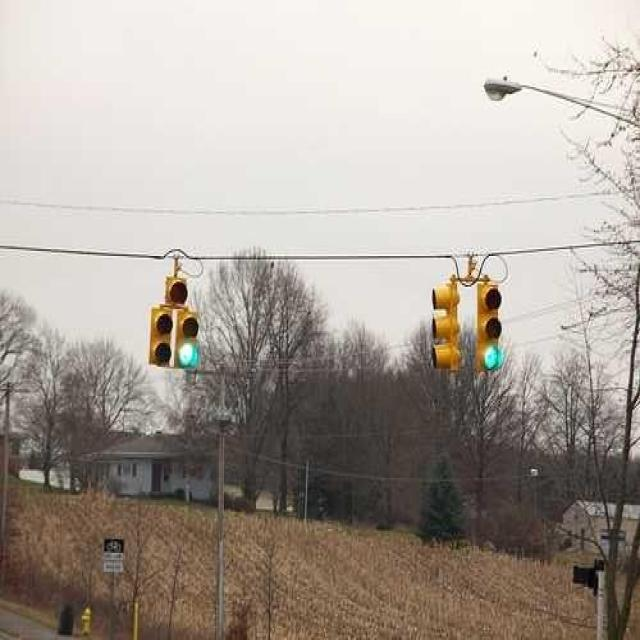Traffic Light -Yellow-: (147, 270, 206, 372), (474, 280, 509, 375)
